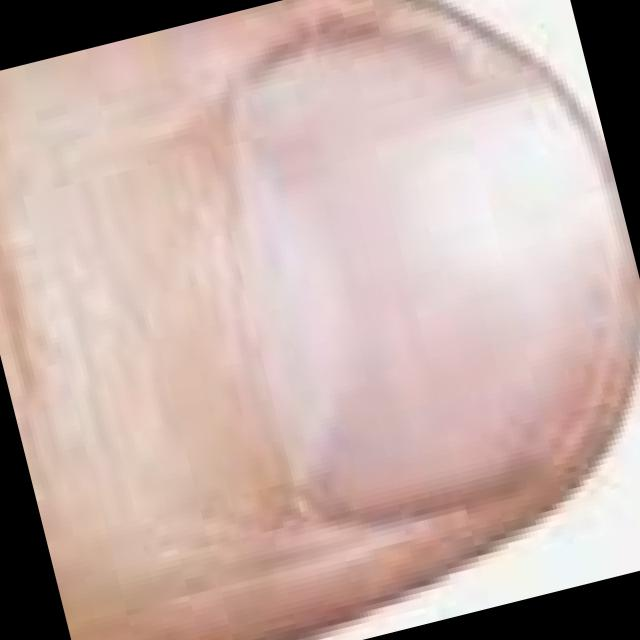Nail: (234, 23, 618, 526)
